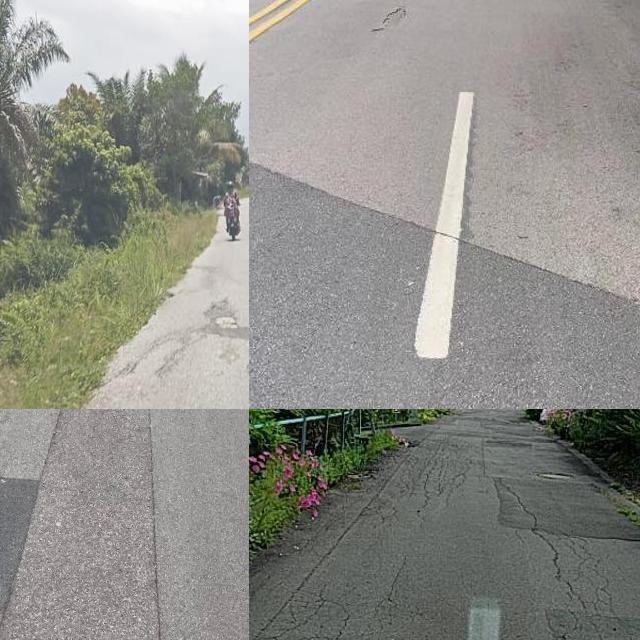Sambungan: (249, 161, 640, 409), (0, 409, 163, 640), (495, 484, 640, 540)
